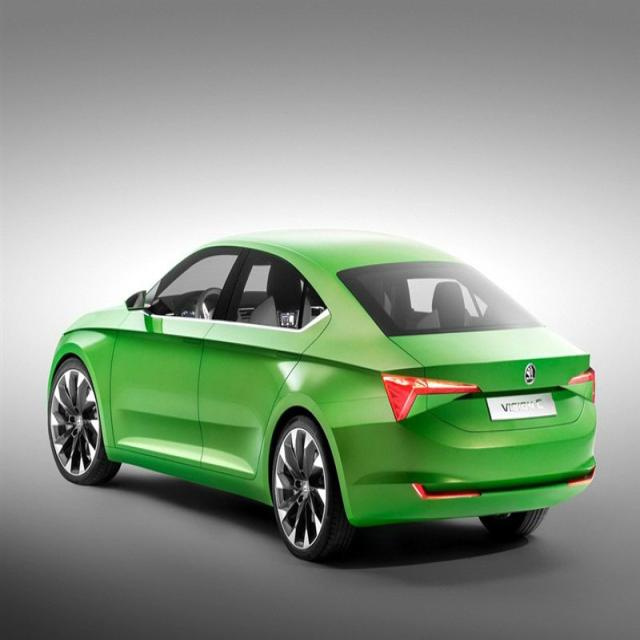back_glass: (335, 260, 548, 338)
back_left_side_light: (379, 370, 484, 424)
back_right_side_light: (566, 367, 596, 404)
door: (216, 247, 333, 487)
front_left_side_door: (110, 242, 250, 470)
front_left_side_mirror: (124, 289, 153, 314)
rear_bumper: (308, 391, 598, 527)
wheel: (272, 413, 351, 561), (48, 357, 123, 485)
